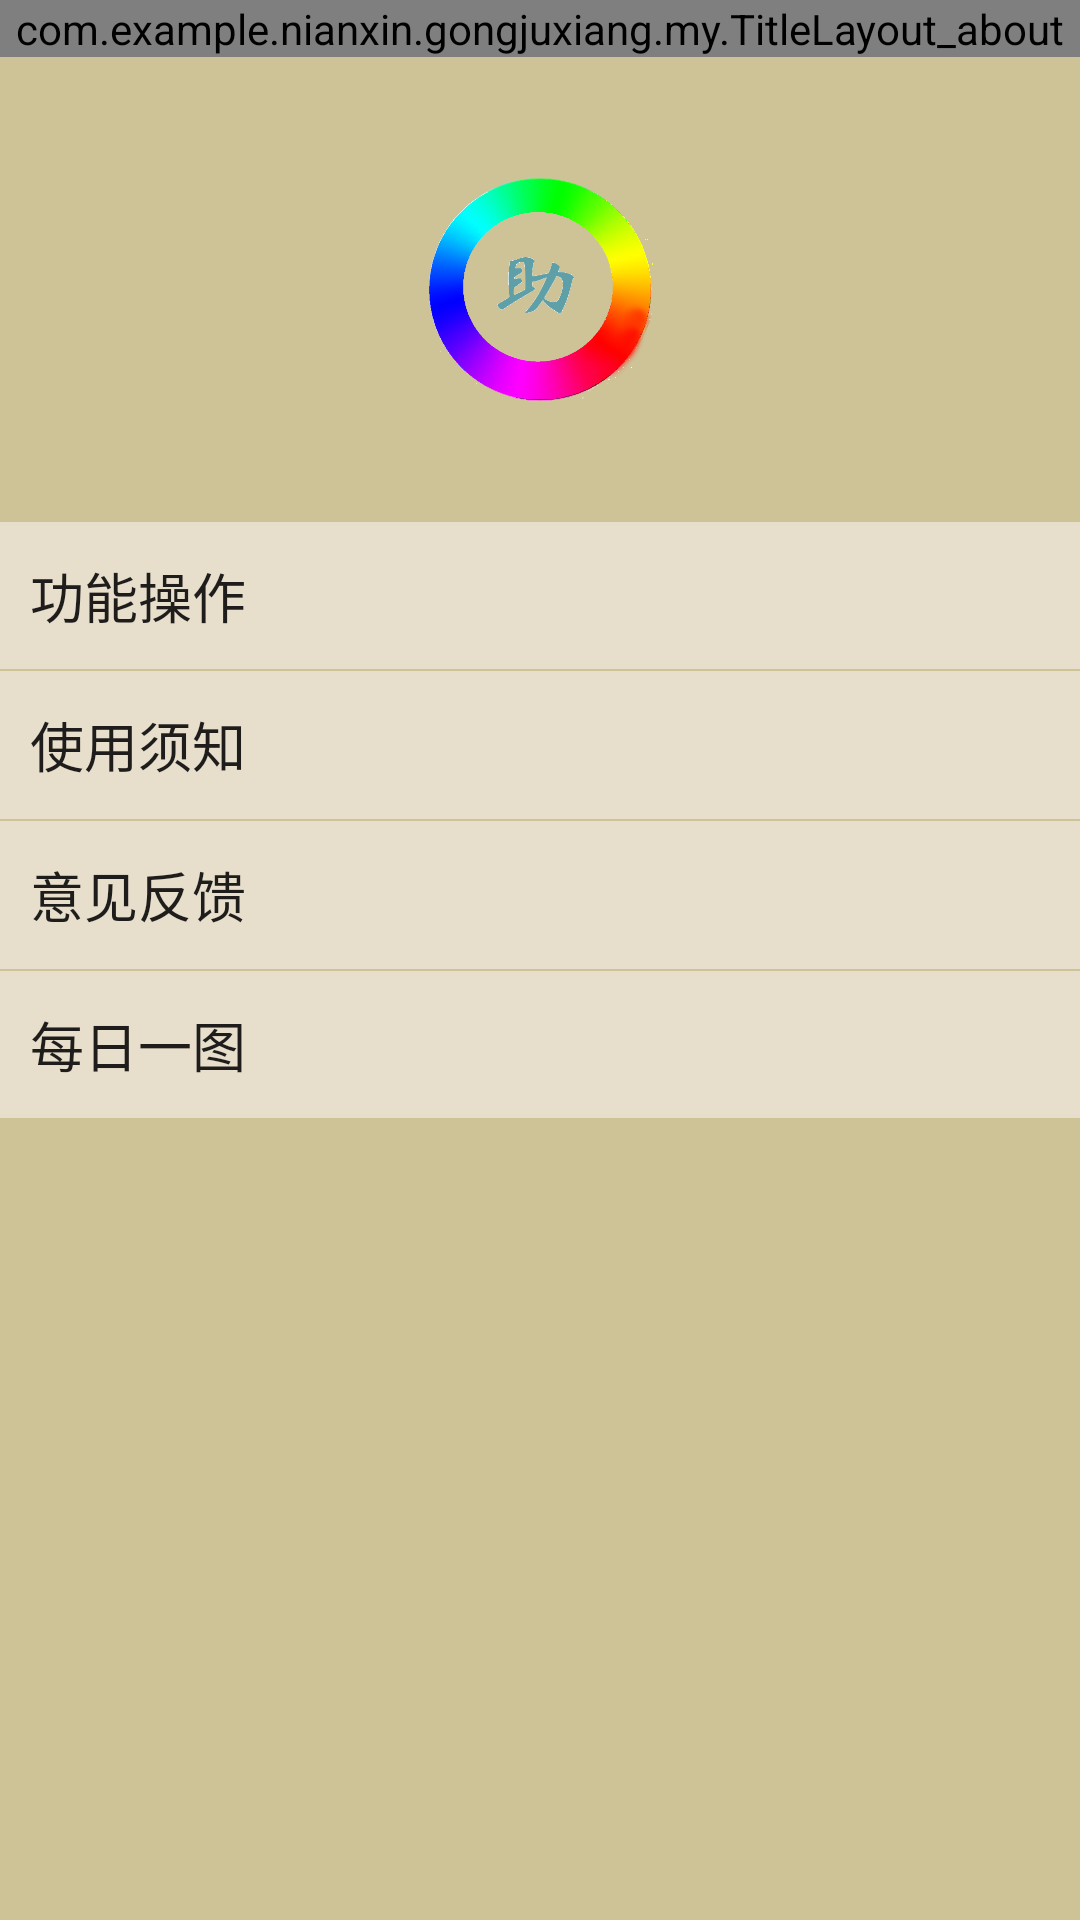

Locate icon controls on the screen. Image size 1080x1920, boxes as (x1, y1, x2, y2).
appico: (429, 178, 654, 401)
